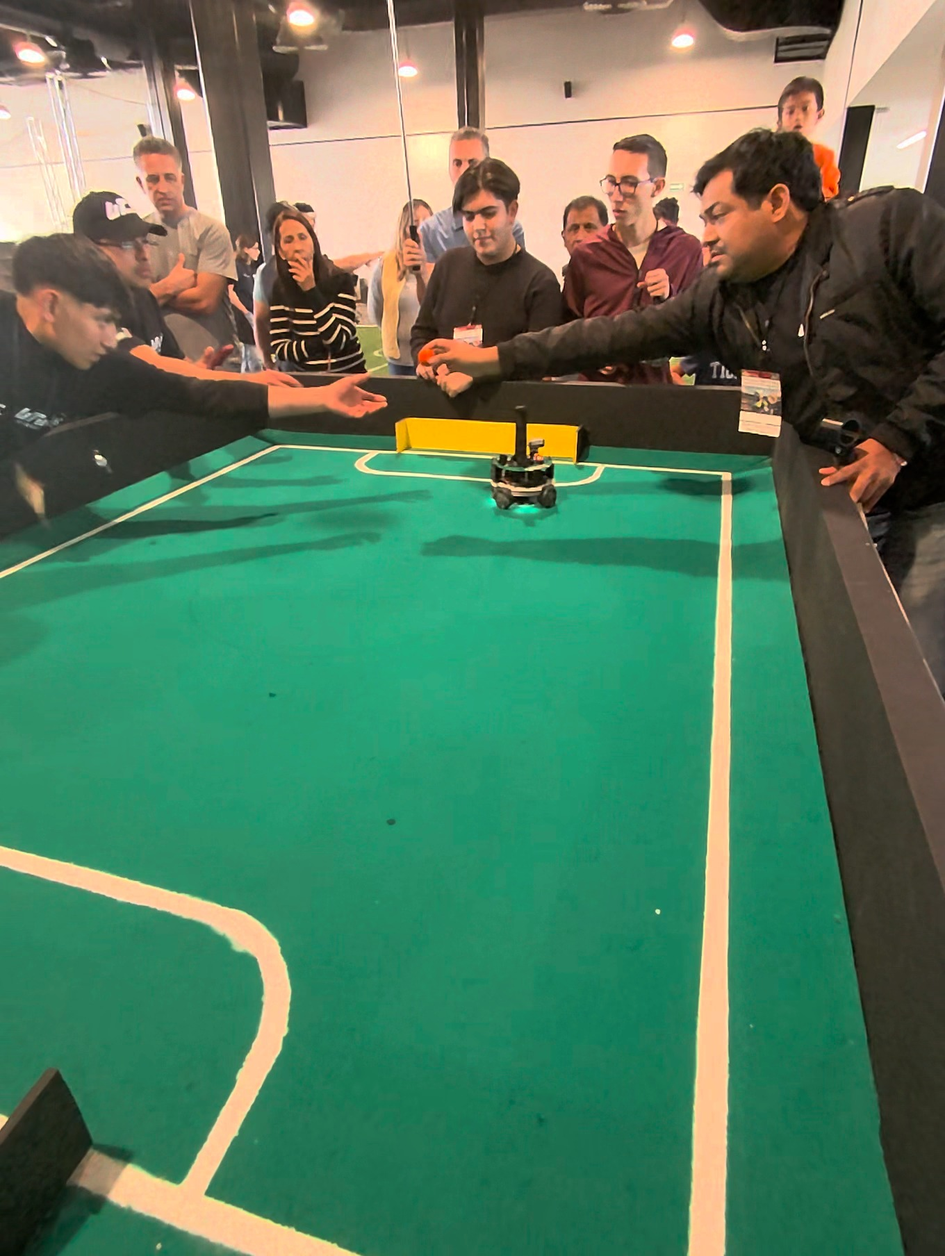Robot: (489, 411, 562, 520)
